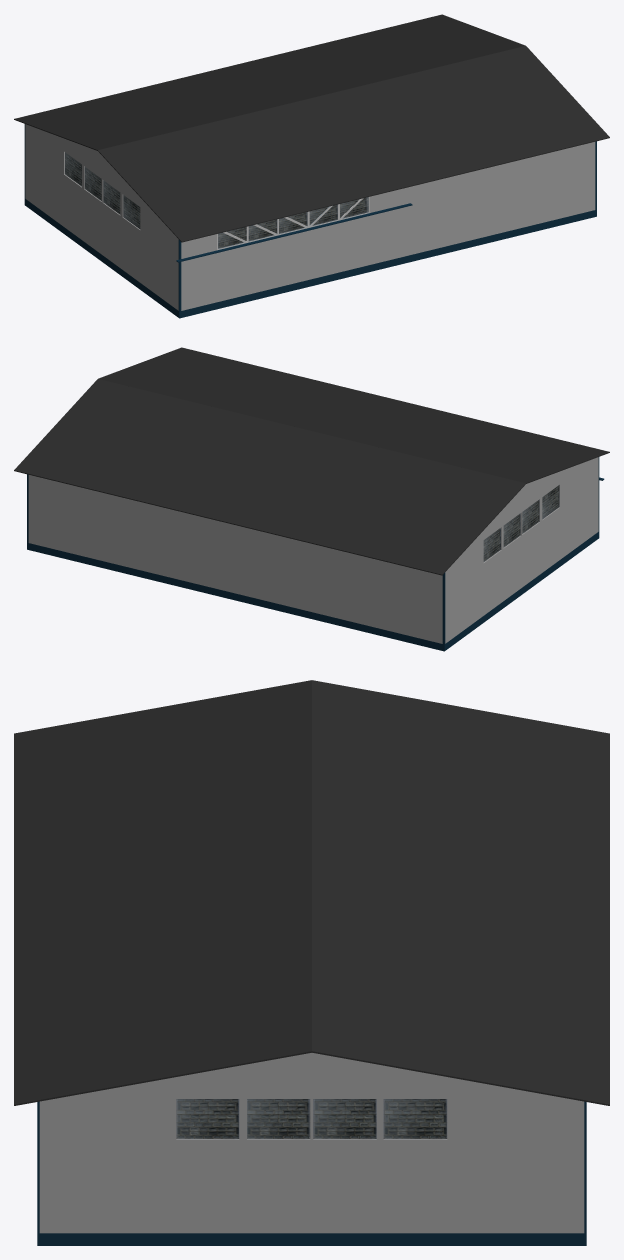
The model's file is edap-hangar-a_LOD02.gltf.
3 renders of one model, top to bottom at view 1: azimuth 30°, elevation 25°; view 2: azimuth 150°, elevation 25°; view 3: azimuth 270°, elevation 25°, orthographic. The views are drawn at different scales.
Visible parts, largest first — view 1: roof.002, walls.002, hangar windows.006, hangar windows.007, rust decal.002; view 2: roof.002, walls.002, hangar windows.007; view 3: roof.002, walls.002, hangar windows.008.
Part boxes in pixels (bbox=[...]): roof.002: bbox=[14, 14, 609, 242]; walls.002: bbox=[24, 124, 596, 318]; hangar windows.006: bbox=[218, 197, 368, 248]; hangar windows.007: bbox=[65, 152, 140, 228]; rust decal.002: bbox=[217, 197, 369, 250]; roof.002: bbox=[14, 347, 609, 575]; walls.002: bbox=[27, 457, 604, 651]; hangar windows.007: bbox=[483, 485, 559, 561]; roof.002: bbox=[14, 680, 609, 1105]; walls.002: bbox=[37, 1053, 586, 1245]; hangar windows.008: bbox=[176, 1099, 447, 1139].
Bounding box in the file's own units: 27.18 × 6.84 × 18.44.
